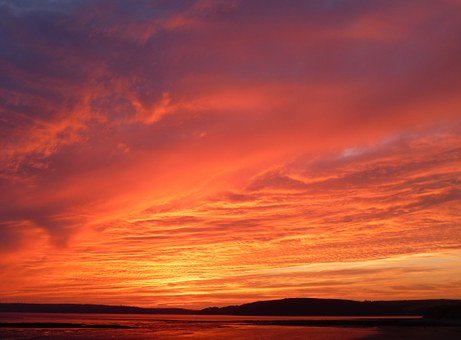sky: (3, 4, 459, 297)
